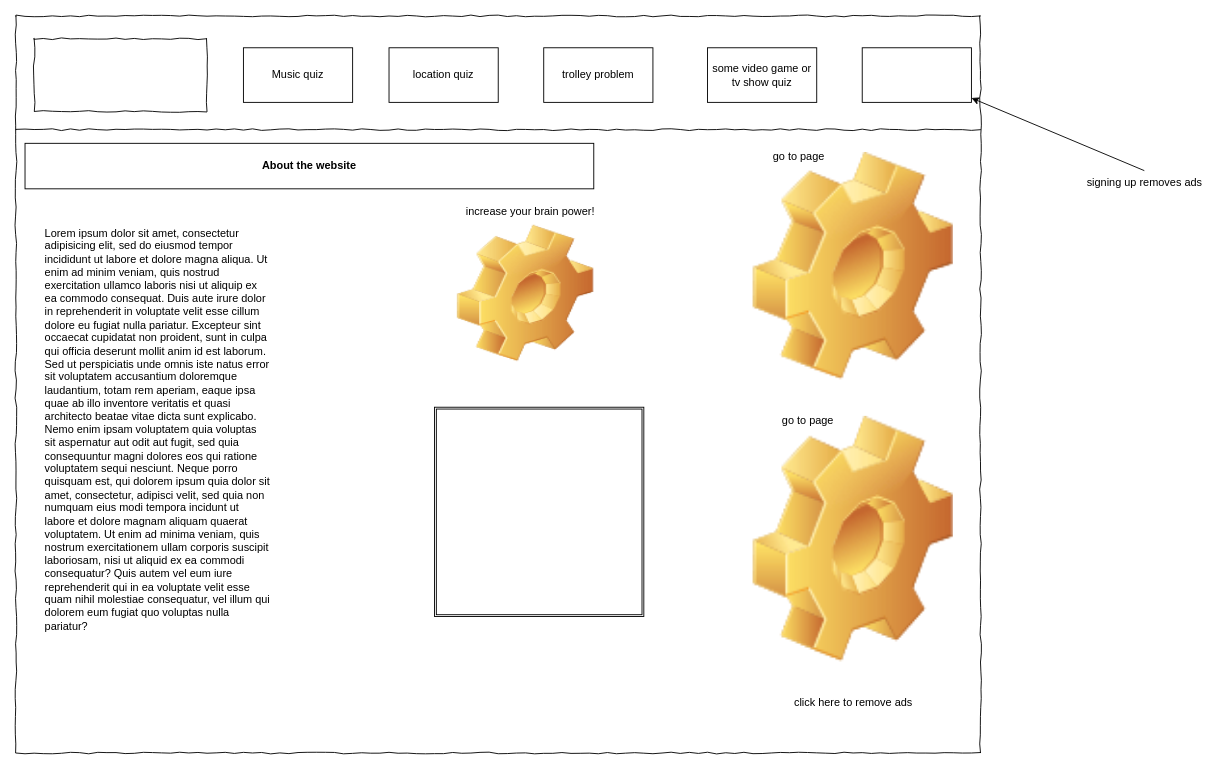
Some shapes in this 1229 by 769 pixel diagram are drawn without their labels. Here are the shapes that lost their labels. From the top down, the box of each, then its label:
(33, 38, 207, 111): LOGO take to home
(861, 47, 971, 102): remove ads
(434, 406, 644, 617): video here of me explaining it
